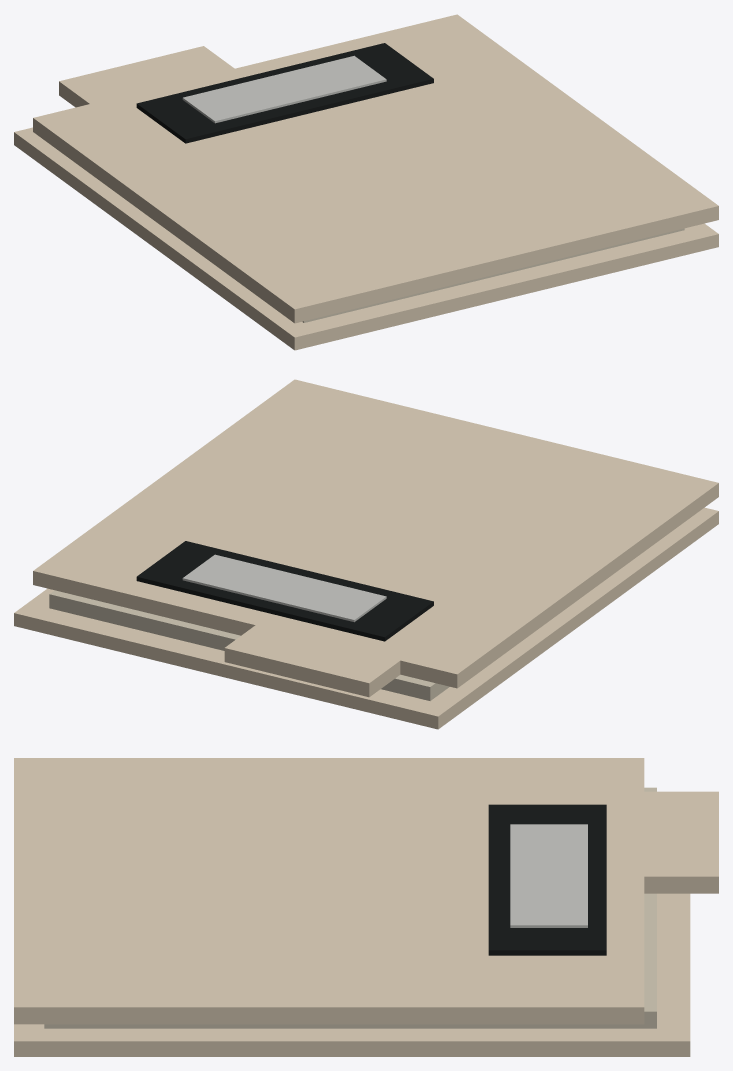
File: CMU3DFolderWhite.glb
The picture shows the model from 3 angles, top to bottom: view 1: azimuth 30°, elevation 25°; view 2: azimuth 150°, elevation 25°; view 3: azimuth 270°, elevation 25°; orthographic projection. The views are drawn at different scales.
Parts seen in each view (by area): view 1: folder cover, folder back, label inset, paper label, upper tab, file pages; view 2: folder cover, folder back, label inset, upper tab, paper label, file pages; view 3: folder cover, folder back, label inset, paper label, upper tab, file pages.
Part boxes in pixels (x1=…): folder cover: x1=33, y1=14, x2=718, y2=323; folder back: x1=14, y1=127, x2=718, y2=350; label inset: x1=136, y1=43, x2=433, y2=143; paper label: x1=182, y1=55, x2=386, y2=123; upper tab: x1=59, y1=46, x2=235, y2=107; file pages: x1=302, y1=228, x2=684, y2=322; folder cover: x1=33, y1=379, x2=718, y2=688; folder back: x1=14, y1=507, x2=718, y2=729; label inset: x1=136, y1=541, x2=433, y2=641; upper tab: x1=224, y1=625, x2=400, y2=697; paper label: x1=182, y1=554, x2=386, y2=622; file pages: x1=49, y1=590, x2=449, y2=700; folder cover: x1=14, y1=758, x2=644, y2=1024; folder back: x1=14, y1=893, x2=690, y2=1056; label inset: x1=488, y1=804, x2=606, y2=955; paper label: x1=510, y1=824, x2=587, y2=927; upper tab: x1=640, y1=791, x2=718, y2=893; file pages: x1=44, y1=787, x2=656, y2=1028.
Bounding box in the file's own units: 0.41 × 0.044 × 0.49.
